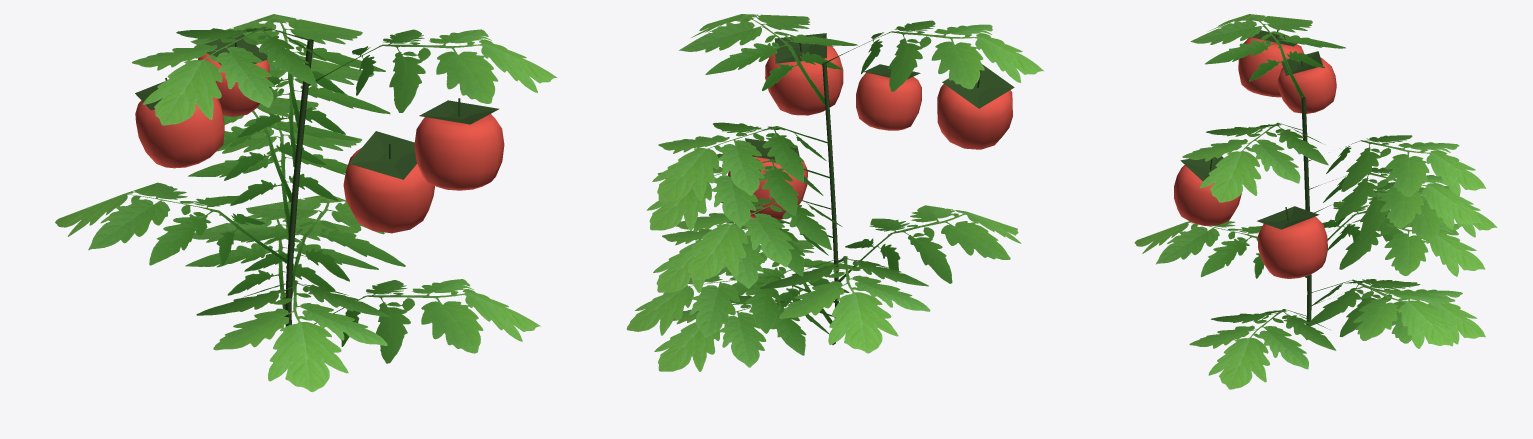
File: EXP_ground_trees_tomato.glb
The picture shows the model from 3 angles, left to right: view 1: azimuth 30°, elevation 25°; view 2: azimuth 150°, elevation 25°; view 3: azimuth 270°, elevation 25°; orthographic projection. The views are drawn at different scales.
Parts seen in each view (by area): view 1: P_Tomato1.002; view 2: P_Tomato1.002; view 3: P_Tomato1.002.
Part boxes in pixels (left/top/right/bottom): P_Tomato1.002: left=55, top=14, right=557, bottom=392; P_Tomato1.002: left=626, top=14, right=1043, bottom=371; P_Tomato1.002: left=1134, top=14, right=1497, bottom=389.
Size of the model in its own units: 2.51 by 1.84 by 2.53.
Materials: 4 (2 with a texture image).
